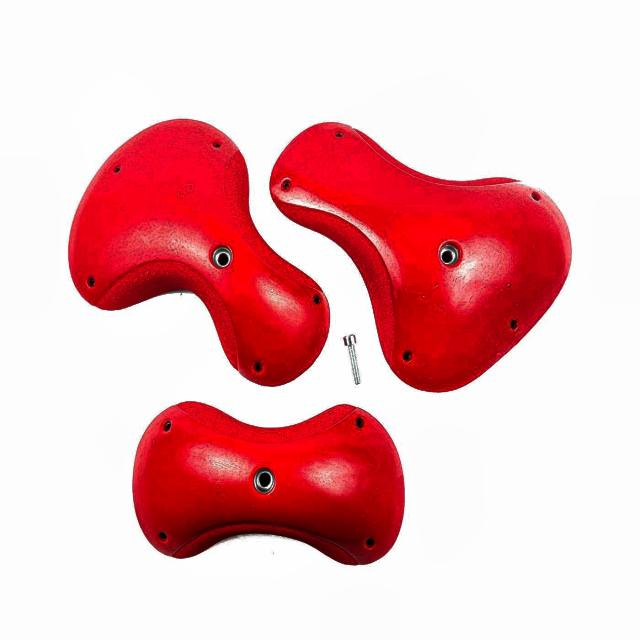Hold: (272, 116, 572, 390), (65, 119, 331, 388), (130, 394, 400, 564)
